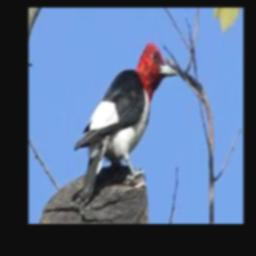Woodpecker: (75, 42, 178, 203)
